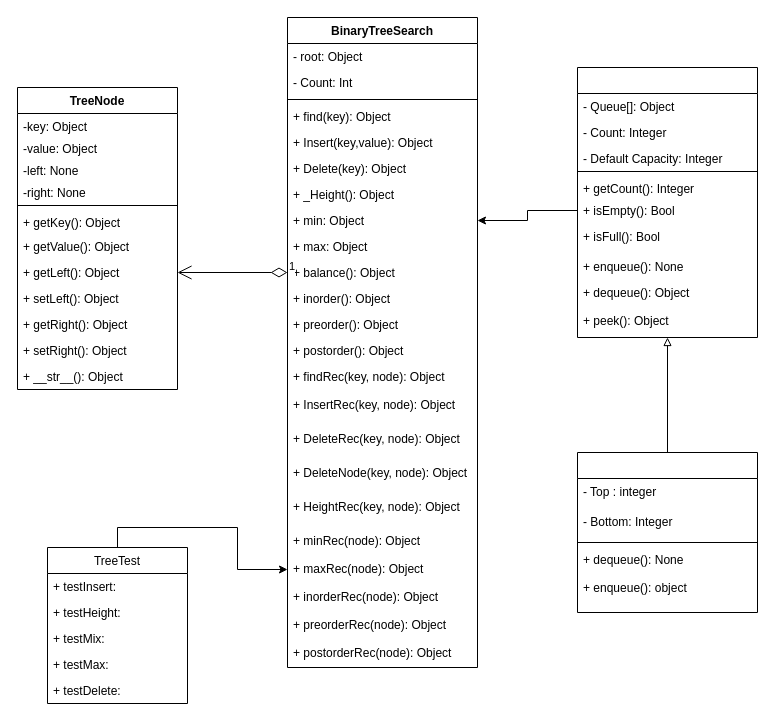
Image size: 775x724. Some labels were removed from this diagram. The box of each missing label's shape, as (x1, y1, x2, y2) in pixels:
DSACircularQueue: (576, 452, 758, 612)
DSAQueue: (576, 66, 758, 338)
